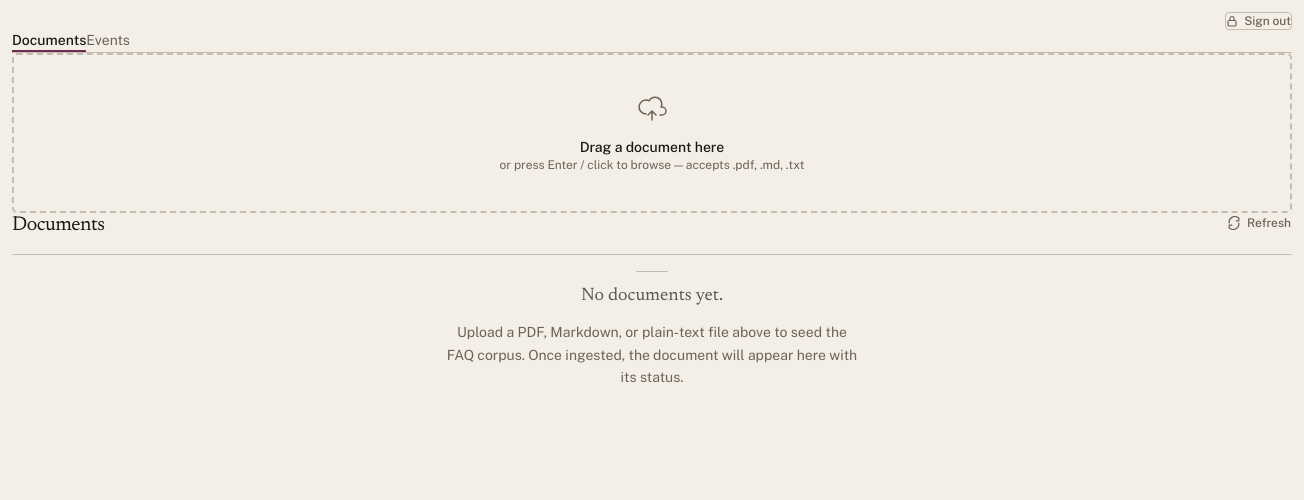
Test: admin-console-004 — sign-out clears token and returns to gate › removes the sessionStorage token and shows the gate after clicking Sign out
Click the button "Sign out".
click(1259, 21)  # box [1225,12,1292,30]
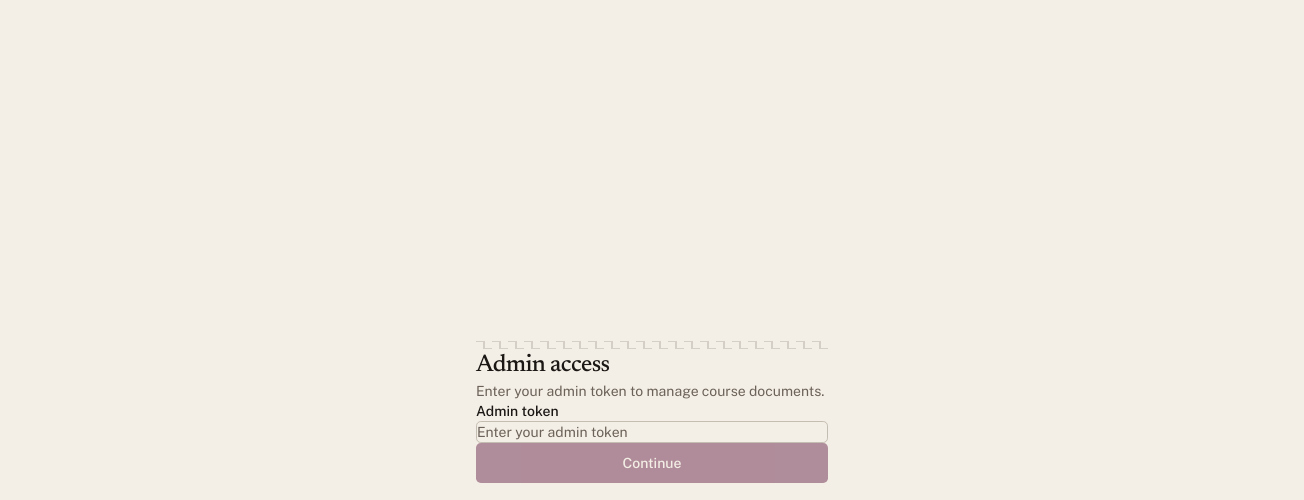
Check: the element "Admin access" is shown, box [476,341,828,483]
Check: the password field labelled "Admin token" is shown, box [476,421,828,443]
